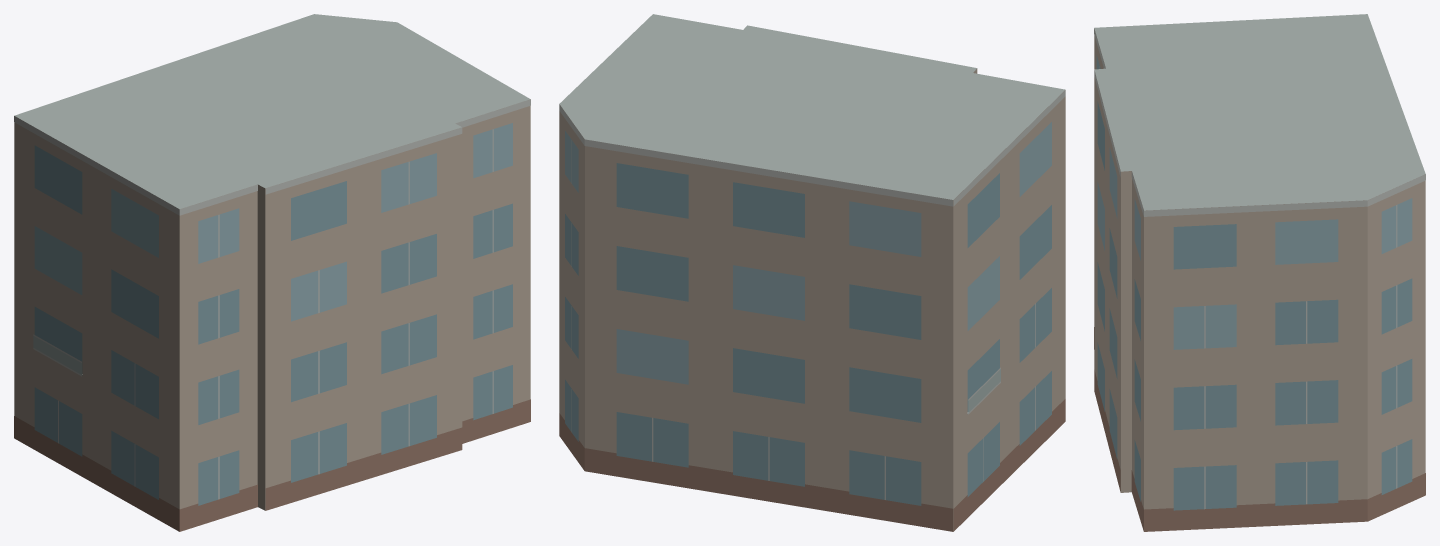
Rendered from survey-upis-33044569.glb.
3 renders of one model, left to right at view 1: azimuth 30°, elevation 25°; view 2: azimuth 150°, elevation 25°; view 3: azimuth 270°, elevation 25°, orthographic. The views are drawn at different scales.
Parts seen in each view (by area): view 1: survey-upis-33044569.tmp; view 2: survey-upis-33044569.tmp; view 3: survey-upis-33044569.tmp.
Part boxes in pixels (bbox=[...]): survey-upis-33044569.tmp: bbox=[14, 14, 530, 531]; survey-upis-33044569.tmp: bbox=[559, 14, 1065, 531]; survey-upis-33044569.tmp: bbox=[1094, 14, 1425, 531].
Bounding box in the file's own units: 16.01 × 12.2 × 11.42.
